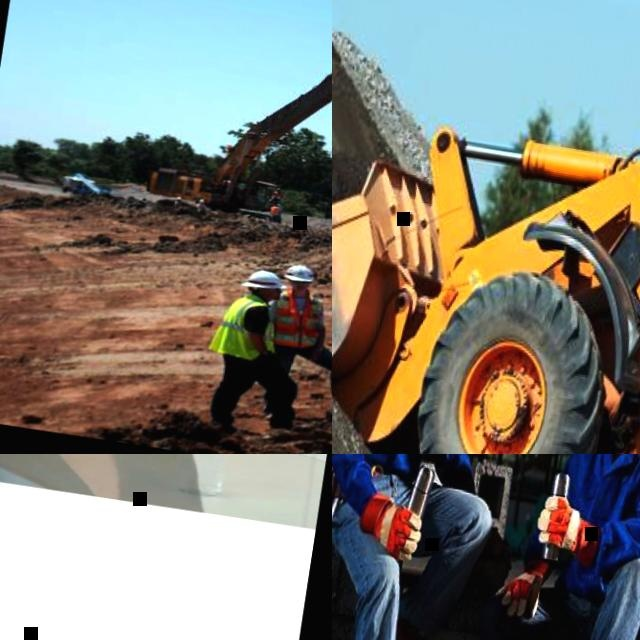Hardhat: (241, 268, 288, 294), (283, 264, 315, 284), (276, 204, 282, 207), (276, 188, 281, 191)
NO-Mask: (289, 284, 311, 294), (266, 292, 282, 302)
NO-Safety Vest: (0, 454, 203, 511), (557, 454, 640, 591)
Person: (332, 454, 544, 640), (462, 454, 640, 640), (196, 264, 318, 438), (252, 260, 332, 427), (0, 454, 235, 510), (269, 186, 284, 207), (269, 203, 284, 224)
Safety Vest: (206, 289, 284, 366), (269, 293, 326, 351), (270, 206, 281, 216), (273, 191, 283, 200)
machinery: (332, 0, 640, 454), (147, 0, 332, 260)
